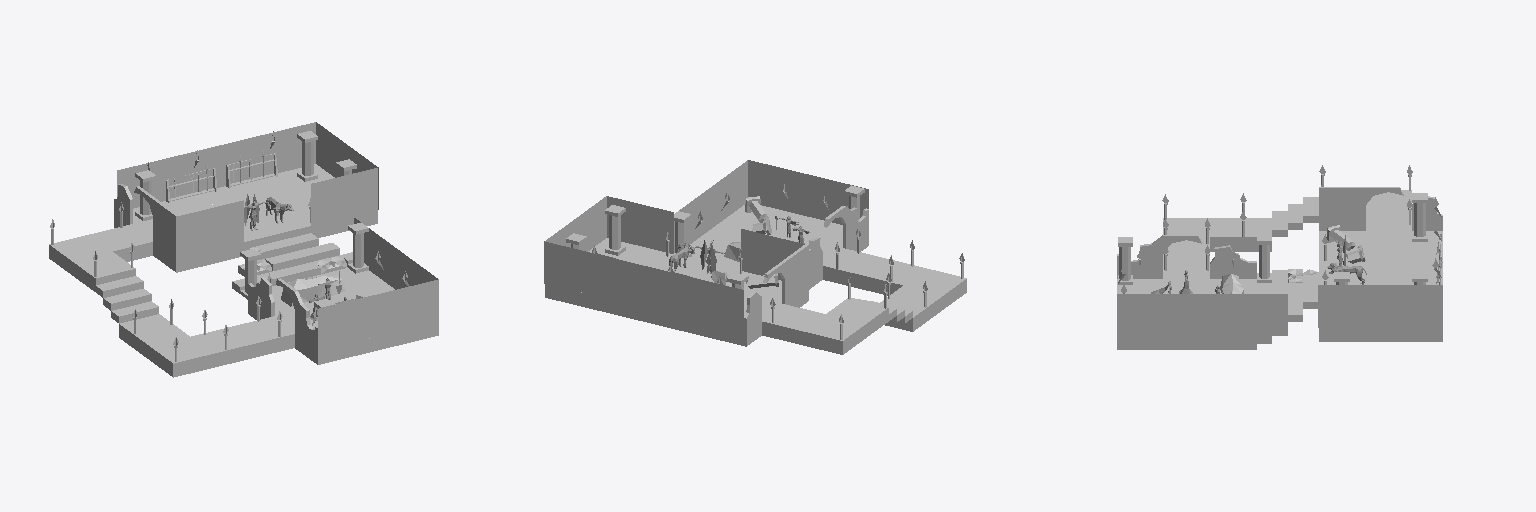
File: castle_map_complete.obj
The picture shows the model from 3 angles: view 1: azimuth 30°, elevation 25°; view 2: azimuth 150°, elevation 25°; view 3: azimuth 270°, elevation 25°; orthographic projection.
Bounding box in the file's own units: 42.2 × 12.67 × 42.